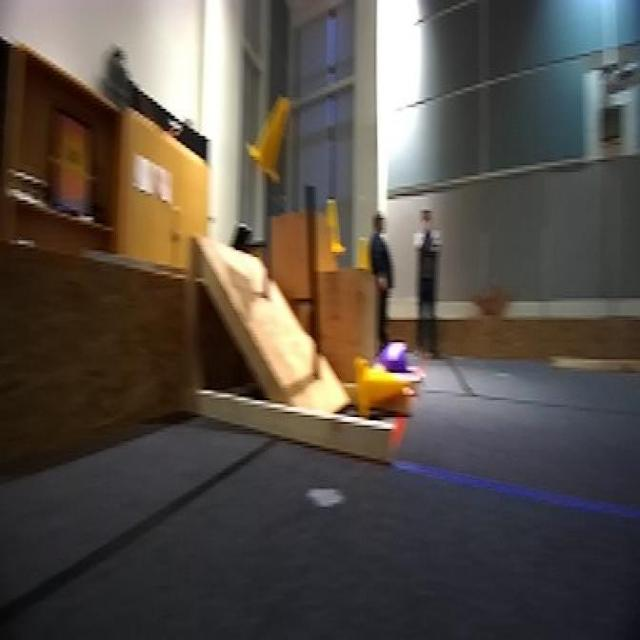frc_cone: (246, 97, 292, 186), (352, 361, 408, 420), (321, 198, 346, 260), (356, 237, 372, 274)
frc_cube: (382, 340, 411, 383)
